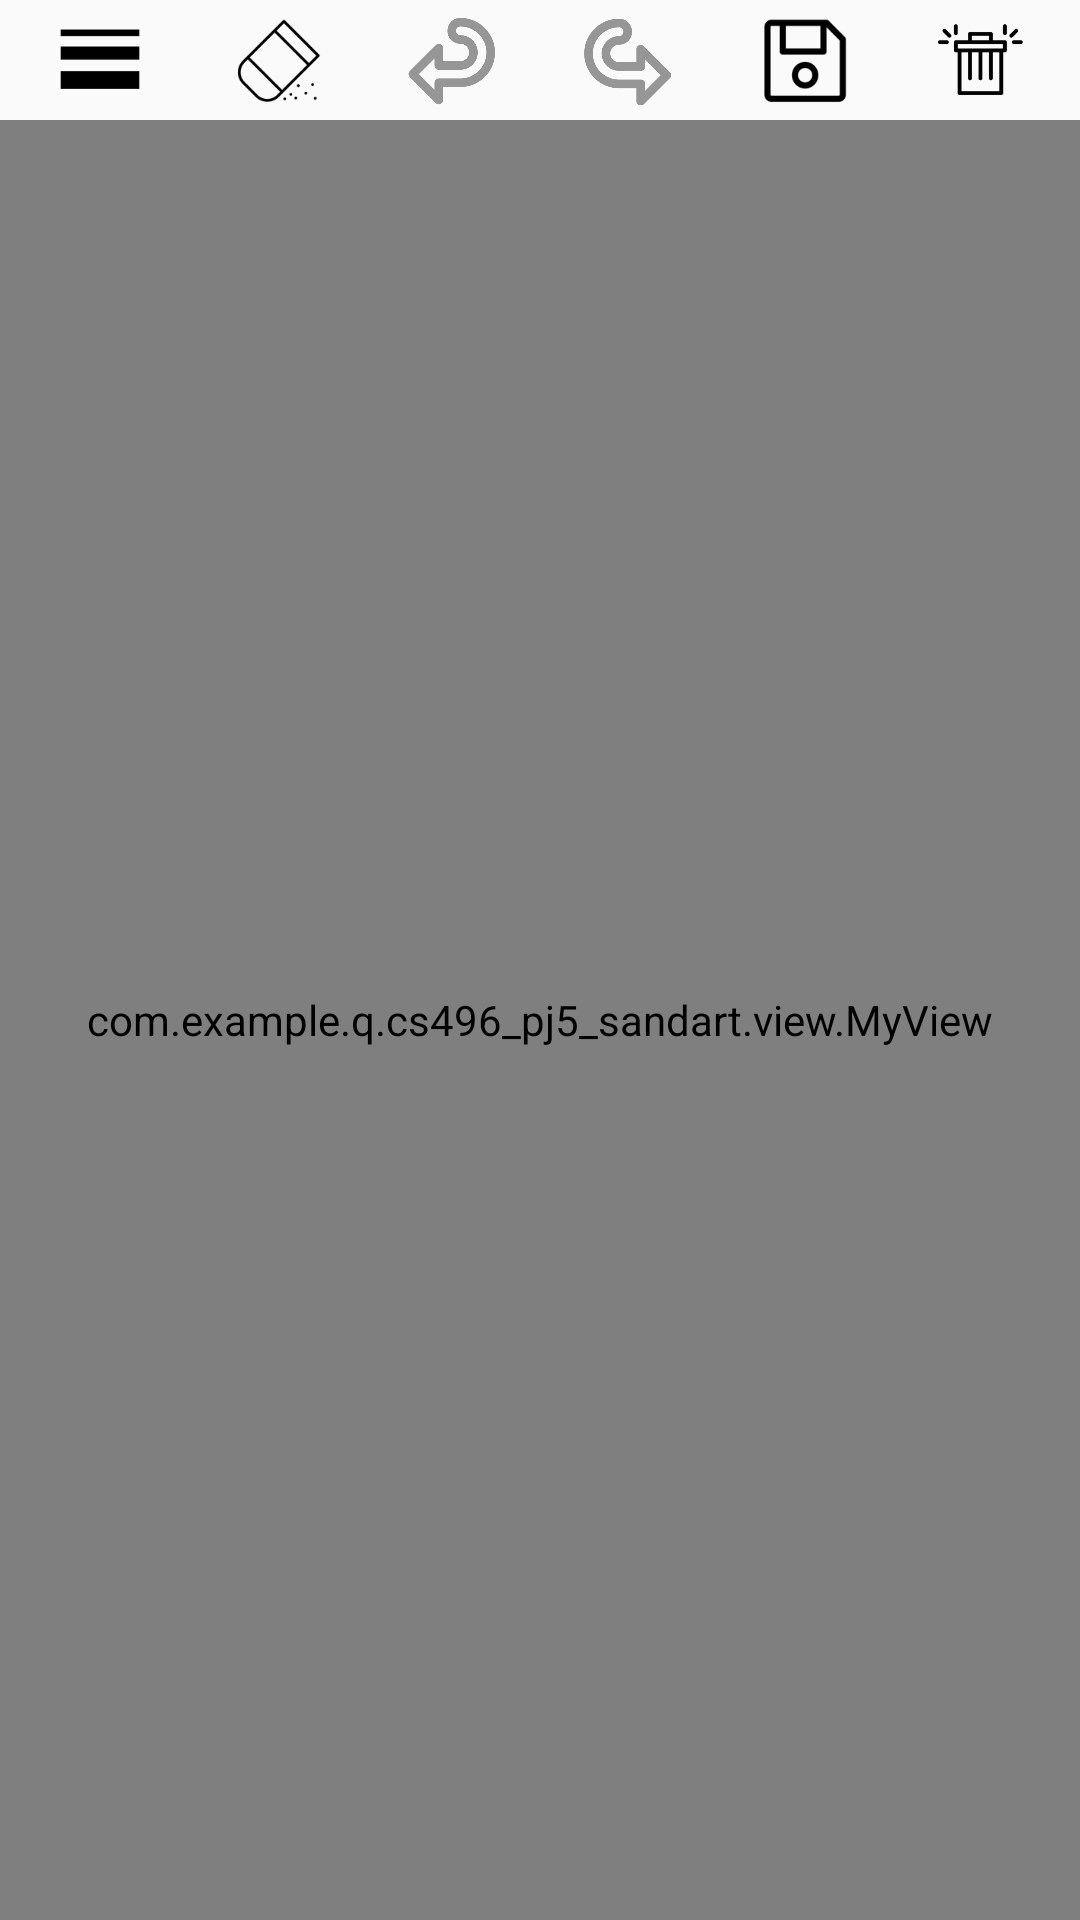

Named icons in this screenshot (1080px x 1920px) and their bounding boxes, (x1,y1,x2,y2):
erase: (238,19,320,102)
redo: (584,19,671,105)
save: (764,19,847,102)
thick: (60,29,140,89)
trash: (938,24,1023,95)
undo: (408,18,495,104)
